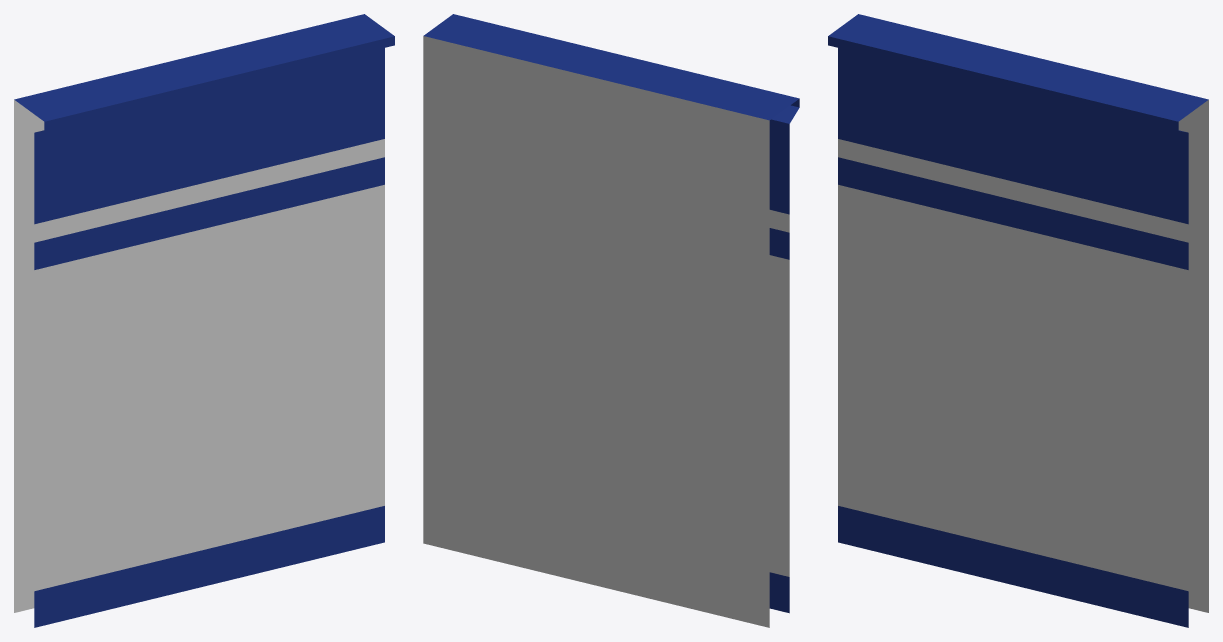
Rendered from wall_1_2x2_8.glb.
3 views of the same model, side by side, from view 1: azimuth 30°, elevation 25°; view 2: azimuth 150°, elevation 25°; view 3: azimuth 330°, elevation 25° (orthographic).
Visible parts, largest first — view 1: Cube; view 2: Cube; view 3: Cube.
Part boxes in pixels (x1,y1,x2,y2): Cube: [14, 14, 394, 627]; Cube: [423, 14, 799, 627]; Cube: [828, 14, 1208, 627].
Size of the model in its own units: 2 by 2.8 by 0.3.
